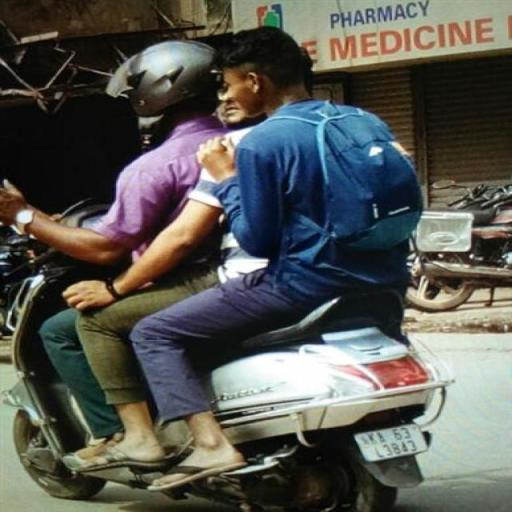tripple riding: (0, 25, 434, 336)
